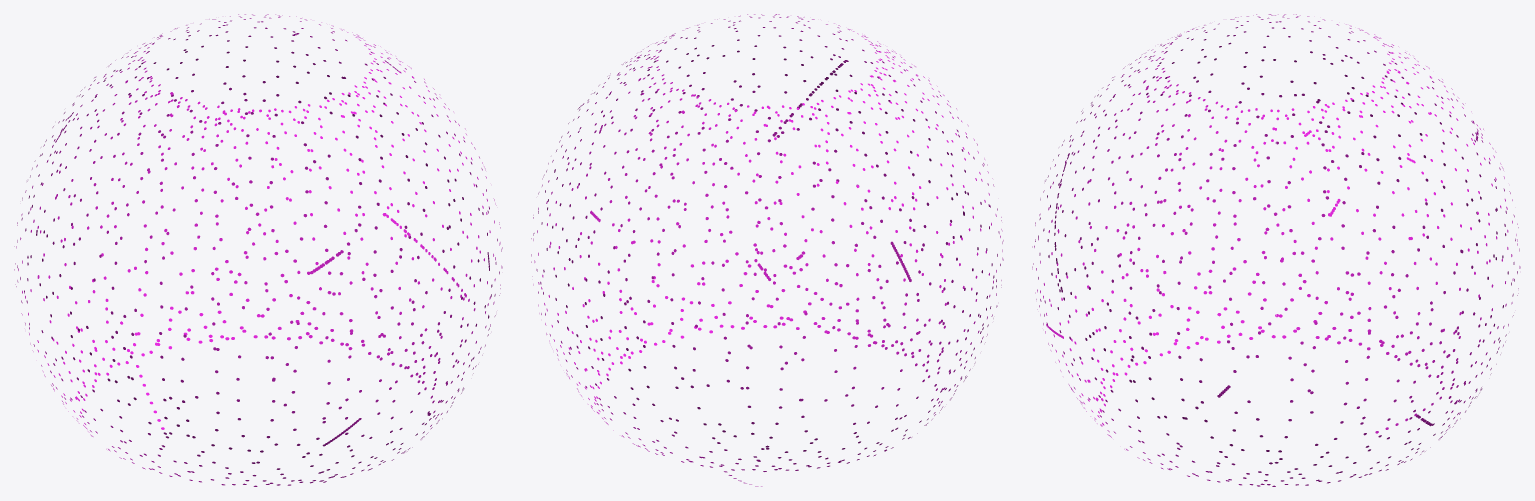
File: starlink-onemesh.glb
3 views of the same model, side by side, from view 1: azimuth 30°, elevation 25°; view 2: azimuth 150°, elevation 25°; view 3: azimuth 270°, elevation 25° (orthographic). The views are drawn at different scales.
Parts seen in each view (by area): view 1: starlink-29-july-21; view 2: starlink-29-july-21; view 3: starlink-29-july-21.
Boxes of the visible parts, <box> form: starlink-29-july-21: <box>14,14,502,486</box>; starlink-29-july-21: <box>531,14,1003,486</box>; starlink-29-july-21: <box>1032,14,1520,486</box>.
Bounding box in the file's own units: 5.06 × 4.5 × 5.06.
